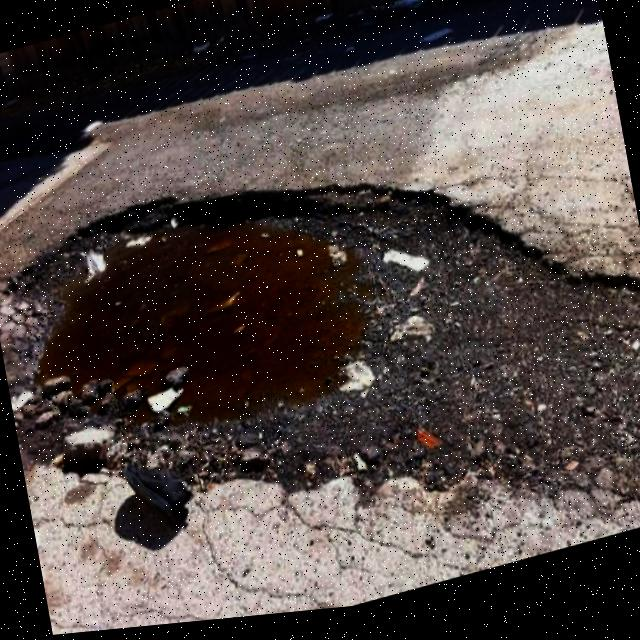Pothole: (0, 108, 425, 499)
